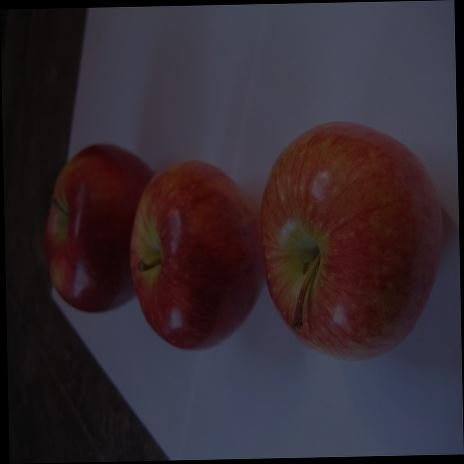red apple: (260, 121, 446, 361), (128, 152, 265, 350), (38, 139, 158, 316)
